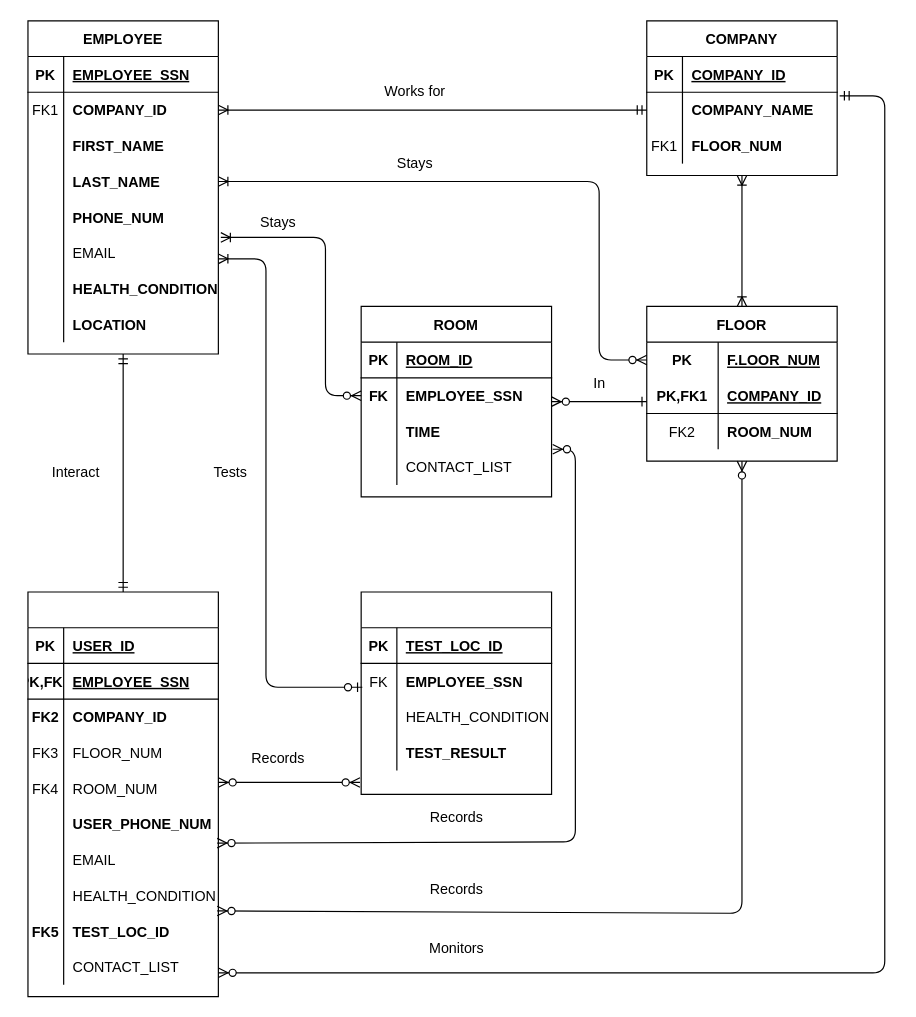
This 916x1017 diagram has some shape labels left out. The box of each missing label's shape, as (x1, y1, x2, y2) in pixels:
APPLICATION: (27, 591, 218, 997)
TEST_CENTER: (360, 591, 552, 794)
